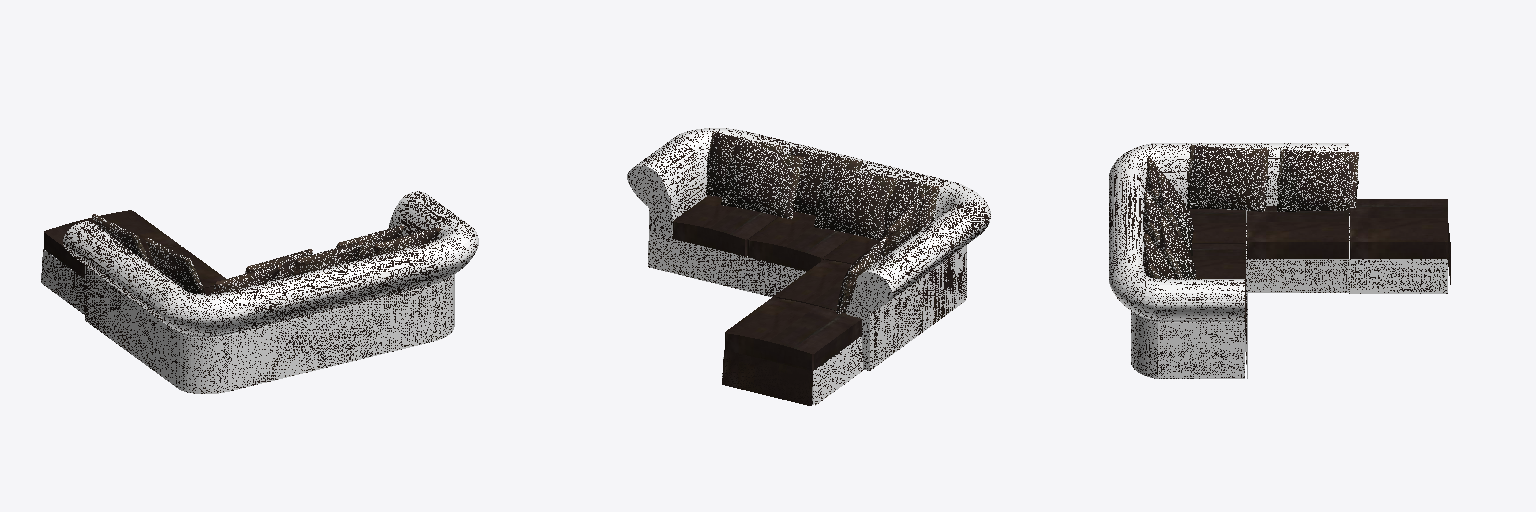
The picture shows the model from 3 angles: view 1: azimuth 30°, elevation 25°; view 2: azimuth 150°, elevation 25°; view 3: azimuth 270°, elevation 25°; orthographic projection.
Visible parts, largest first — view 1: mesh22_mesh22-geometry, mesh4_mesh4-geometry, mesh21_mesh21-geometry, mesh17_mesh17-geometry, mesh18_mesh18-geometry, mesh16_mesh16-geometry, mesh20_mesh20-geometry, mesh11_mesh11-geometry, mesh1_mesh1-geometry, mesh19_mesh19-geometry; view 2: mesh22_mesh22-geometry, mesh4_mesh4-geometry, mesh11_mesh11-geometry, mesh19_mesh19-geometry, mesh7_mesh7-geometry, mesh14_mesh14-geometry, mesh1_mesh1-geometry, mesh17_mesh17-geometry, mesh16_mesh16-geometry, mesh18_mesh18-geometry, mesh21_mesh21-geometry, mesh20_mesh20-geometry (+1 smaller); view 3: mesh22_mesh22-geometry, mesh4_mesh4-geometry, mesh21_mesh21-geometry, mesh1_mesh1-geometry, mesh20_mesh20-geometry, mesh12_mesh12-geometry, mesh7_mesh7-geometry, mesh19_mesh19-geometry, mesh11_mesh11-geometry, mesh16_mesh16-geometry, mesh17_mesh17-geometry.
Part boxes in pixels (left/top/right/bottom): mesh22_mesh22-geometry: left=41, top=191, right=478, bottom=393; mesh4_mesh4-geometry: left=44, top=210, right=180, bottom=278; mesh21_mesh21-geometry: left=145, top=238, right=205, bottom=294; mesh17_mesh17-geometry: left=290, top=241, right=362, bottom=276; mesh18_mesh18-geometry: left=211, top=264, right=281, bottom=294; mesh16_mesh16-geometry: left=370, top=226, right=440, bottom=256; mesh20_mesh20-geometry: left=92, top=214, right=150, bottom=264; mesh11_mesh11-geometry: left=336, top=225, right=403, bottom=259; mesh1_mesh1-geometry: left=146, top=246, right=225, bottom=287; mesh19_mesh19-geometry: left=245, top=249, right=312, bottom=279; mesh22_mesh22-geometry: left=627, top=128, right=990, bottom=405; mesh4_mesh4-geometry: left=725, top=297, right=861, bottom=370; mesh11_mesh11-geometry: left=721, top=143, right=803, bottom=219; mesh19_mesh19-geometry: left=814, top=165, right=896, bottom=240; mesh7_mesh7-geometry: left=748, top=212, right=852, bottom=270; mesh14_mesh14-geometry: left=673, top=195, right=778, bottom=256; mesh1_mesh1-geometry: left=774, top=259, right=851, bottom=313; mesh17_mesh17-geometry: left=789, top=147, right=861, bottom=215; mesh16_mesh16-geometry: left=706, top=131, right=783, bottom=196; mesh18_mesh18-geometry: left=868, top=172, right=939, bottom=232; mesh21_mesh21-geometry: left=880, top=194, right=924, bottom=256; mesh20_mesh20-geometry: left=836, top=236, right=887, bottom=313; mesh22_mesh22-geometry: left=1109, top=143, right=1450, bottom=378; mesh4_mesh4-geometry: left=1350, top=199, right=1447, bottom=258; mesh21_mesh21-geometry: left=1187, top=145, right=1268, bottom=211; mesh1_mesh1-geometry: left=1247, top=206, right=1348, bottom=258; mesh20_mesh20-geometry: left=1277, top=149, right=1358, bottom=215; mesh12_mesh12-geometry: left=1189, top=209, right=1245, bottom=243; mesh7_mesh7-geometry: left=1192, top=244, right=1245, bottom=280; mesh19_mesh19-geometry: left=1157, top=173, right=1193, bottom=255; mesh11_mesh11-geometry: left=1159, top=218, right=1195, bottom=278; mesh16_mesh16-geometry: left=1143, top=234, right=1175, bottom=278; mesh17_mesh17-geometry: left=1143, top=192, right=1176, bottom=247.
Size of the model in its own units: 0.7086 by 0.2407 by 0.6632.
10 materials, 6 textured.